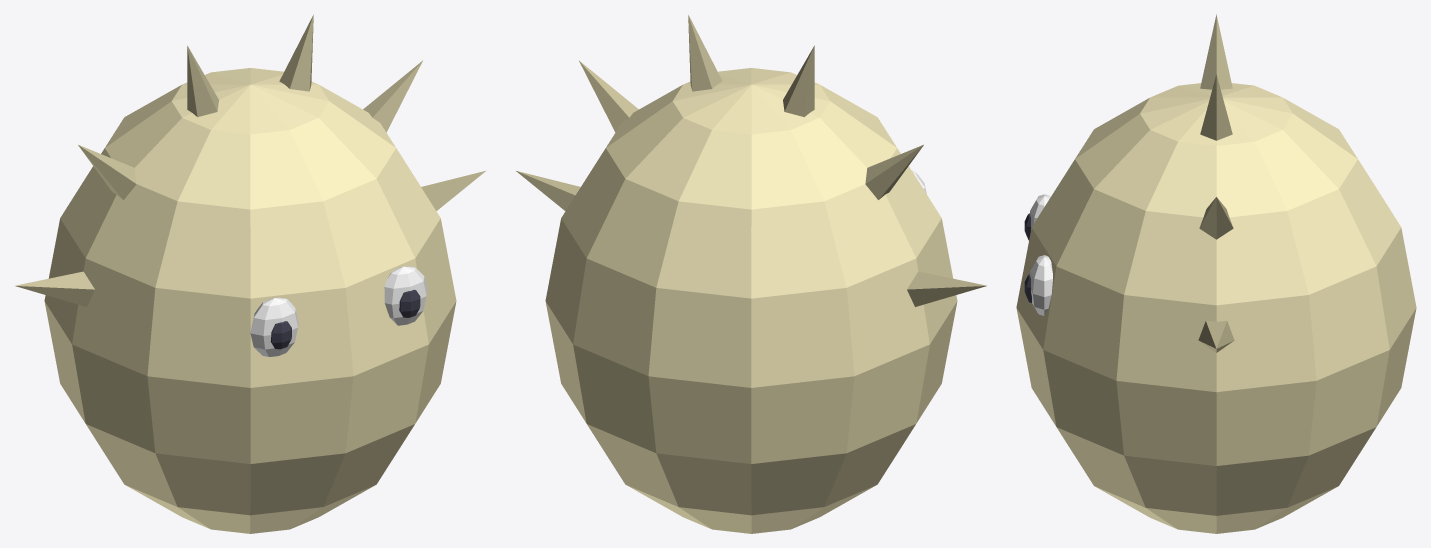
Rendered from oraclion.glb.
3 views of the same model, side by side, from view 1: azimuth 30°, elevation 25°; view 2: azimuth 150°, elevation 25°; view 3: azimuth 270°, elevation 25° (orthographic). The views are drawn at different scales.
Parts seen in each view (by area): view 1: oraclion; view 2: oraclion; view 3: oraclion.
Part boxes in pixels (x1,y1,x2,y2): oraclion: (14, 15, 485, 533); oraclion: (516, 15, 987, 533); oraclion: (1016, 14, 1416, 533).
Bounding box in the file's own units: 2.01 × 1.99 × 1.52.
